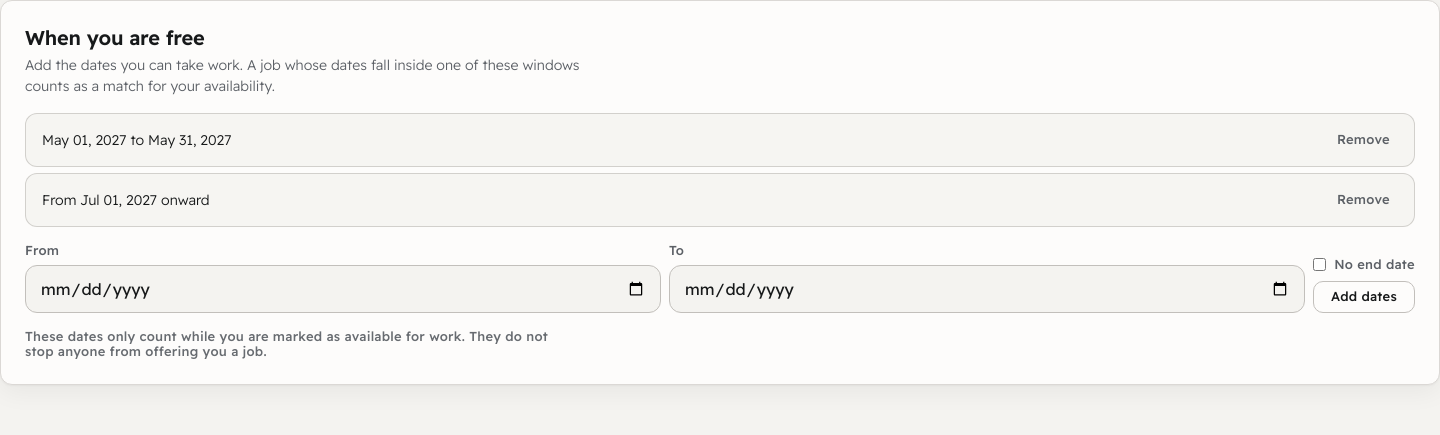
Test: AvailabilityWindows — when you are free › a failed removal says so and changes nothing on screen
Click the button "Remove" in the row of "May 01, 2027 to May 31, 2027".
click(1363, 140)  # box [1329, 122, 1398, 158]
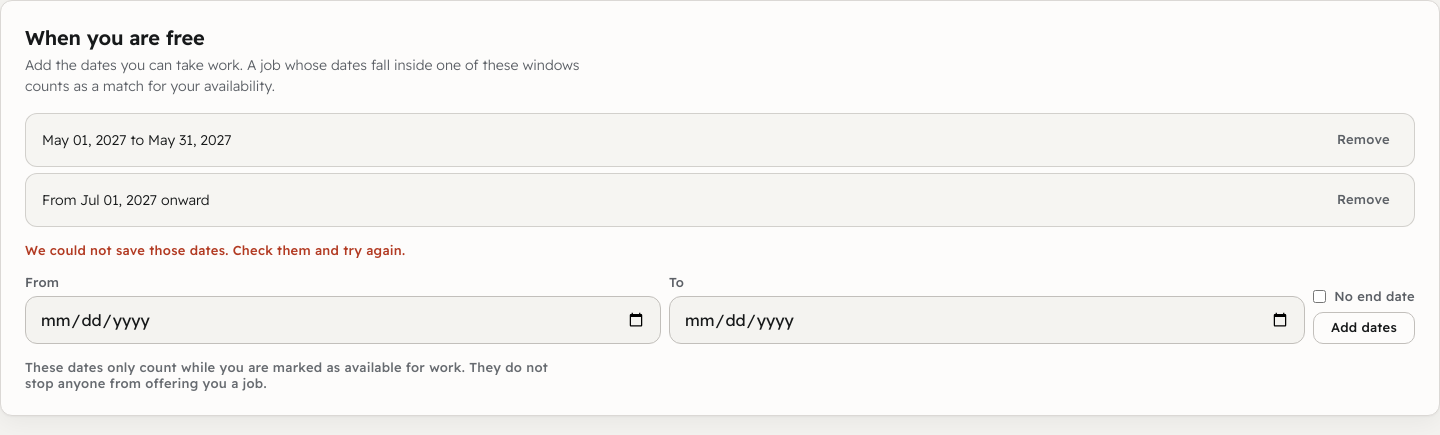
Expected: the number of list items with test id "availability-window" is 2, [25, 113, 1415, 167]; [25, 173, 1415, 227]
Result: the message shows "could not save those dates" at [25, 242, 405, 258]
